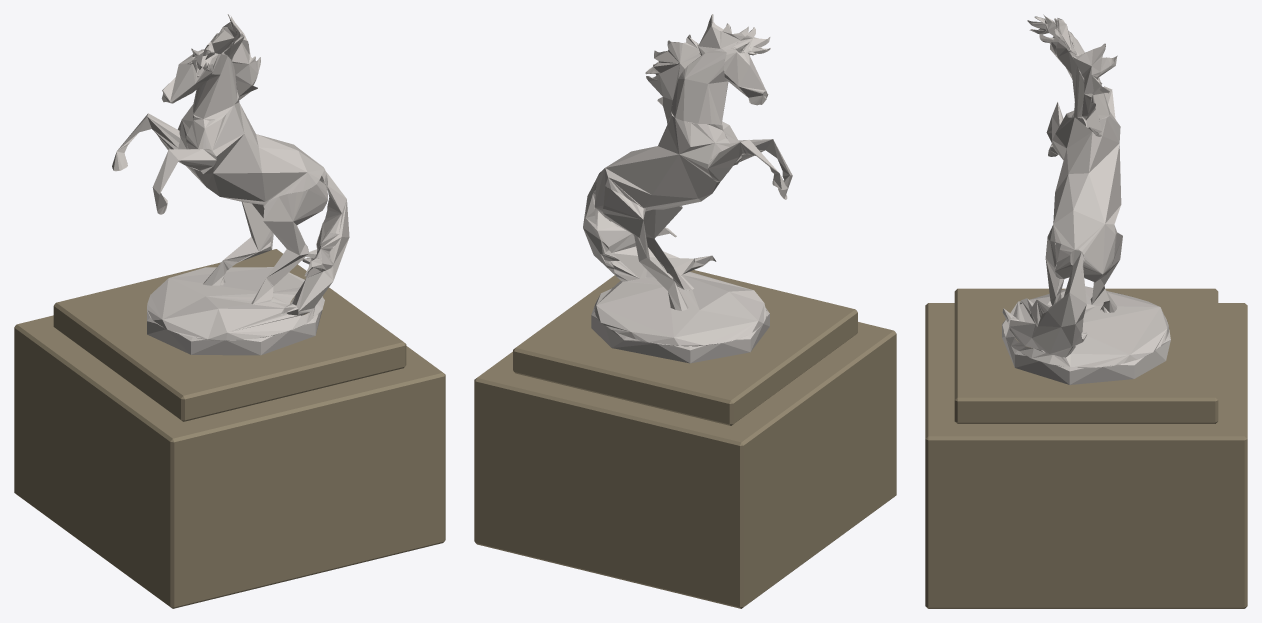
File: statue-horse-lod1.glb
The picture shows the model from 3 angles, left to right: view 1: azimuth 30°, elevation 25°; view 2: azimuth 150°, elevation 25°; view 3: azimuth 270°, elevation 25°; orthographic projection. The views are drawn at different scales.
Bounding box in the file's own units: 2.2 × 3.9 × 2.2.
